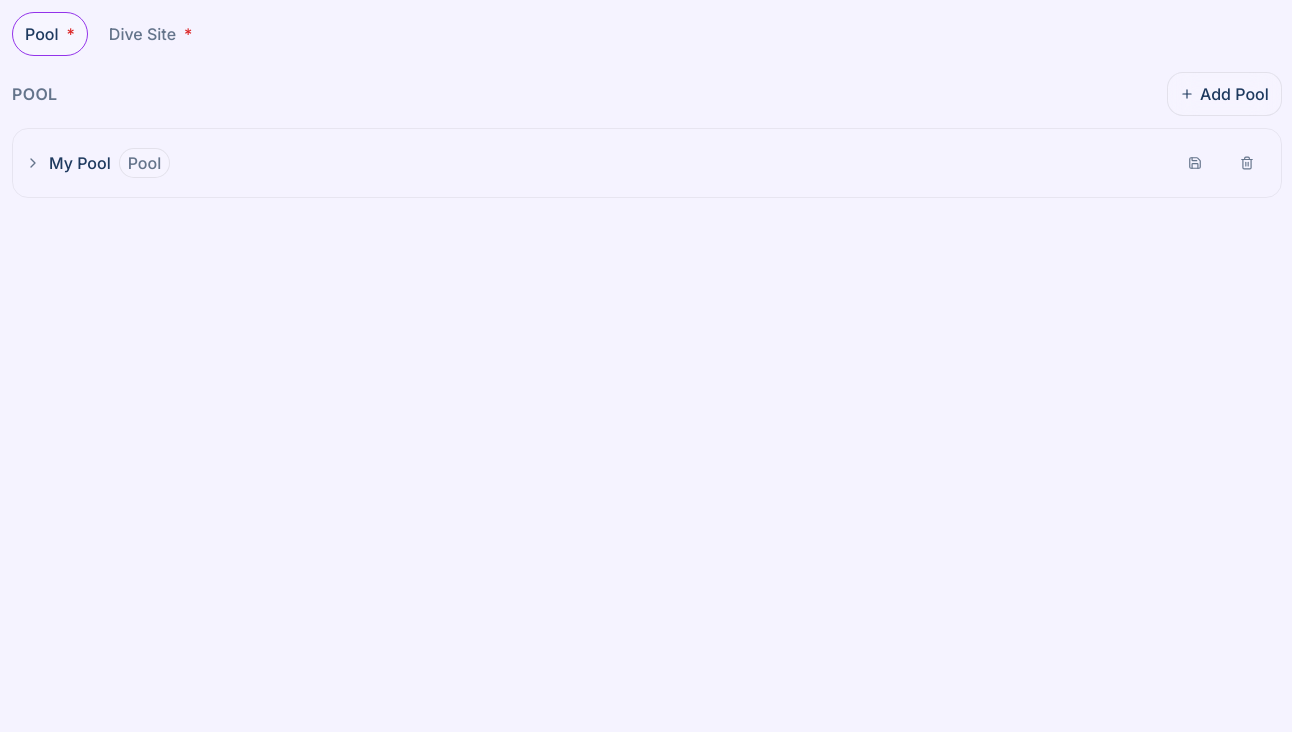
it: VenueCapabilitiesSection — remediation: draft inheritance precedence › falls back to latest any-kind row when no same-kind row exists
Click the tab "Dive Site *".
click(151, 34)  # box [96,12,205,56]
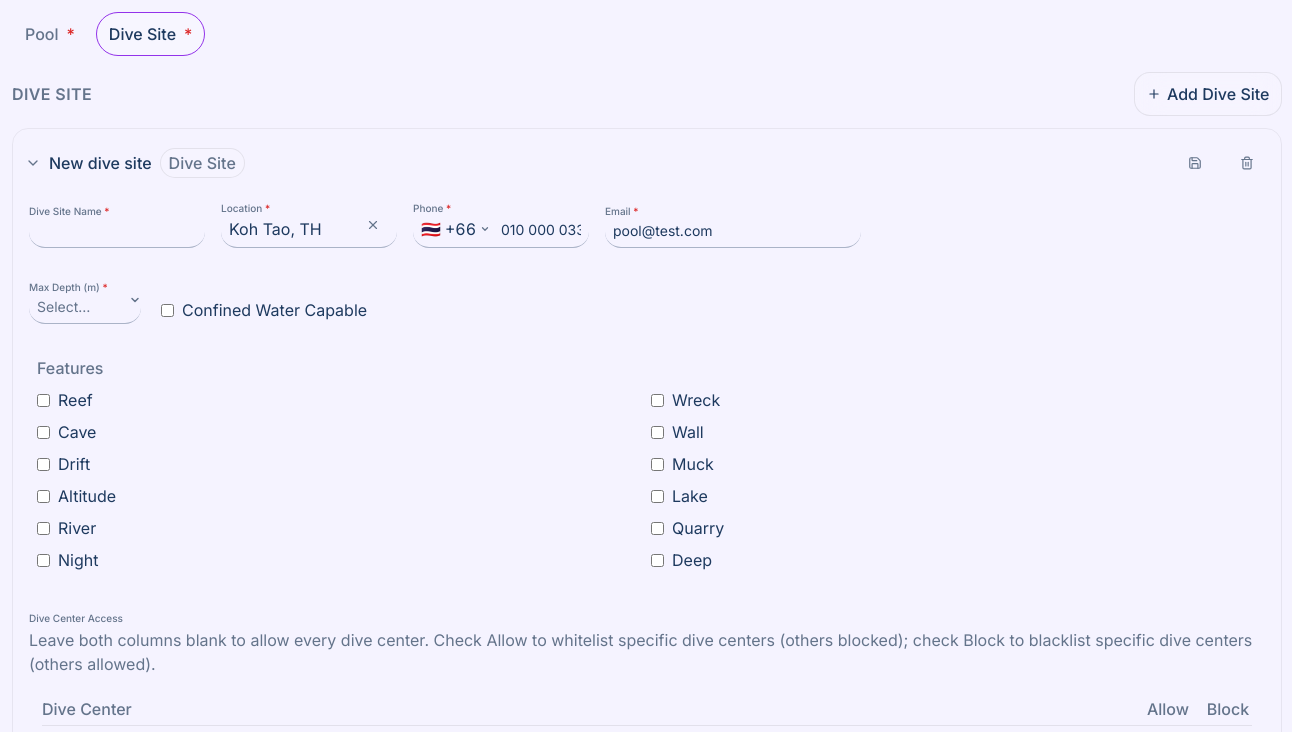
Expected: the field labelled "Email *" holds "pool@test.com", [605,204,861,248]
Expected: the field labelled "Dive Site Name *" is empty, [29,204,205,248]
